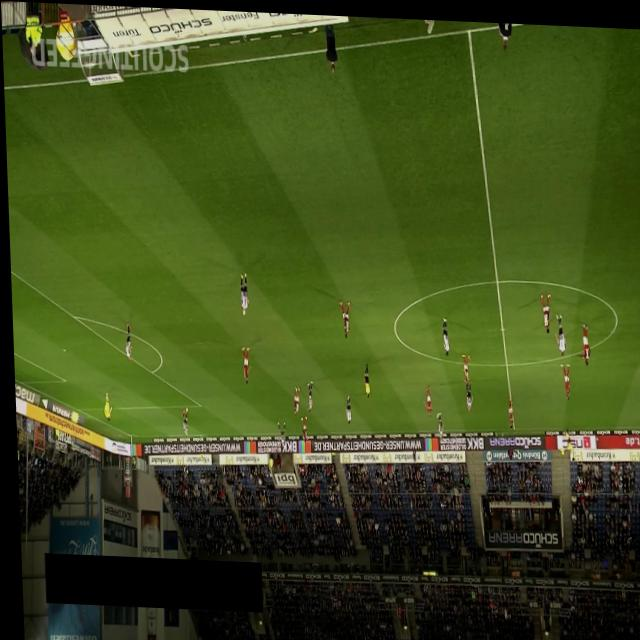goalkeeper: (99, 390, 108, 420)
player: (551, 307, 563, 352), (335, 296, 348, 335), (537, 287, 549, 328), (577, 317, 587, 361), (557, 358, 568, 395), (237, 269, 246, 313), (238, 343, 248, 381), (438, 312, 446, 351), (420, 380, 429, 413), (458, 349, 467, 381), (121, 321, 128, 361), (273, 417, 282, 445), (462, 376, 469, 408), (303, 377, 310, 409), (341, 391, 348, 421), (290, 383, 297, 411), (178, 406, 185, 434), (504, 390, 510, 422), (432, 408, 439, 434), (297, 413, 303, 437)
referee: (360, 359, 367, 395), (562, 421, 569, 450)
